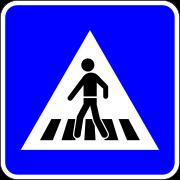Pedestrian Crossing: (27, 30, 162, 162)
